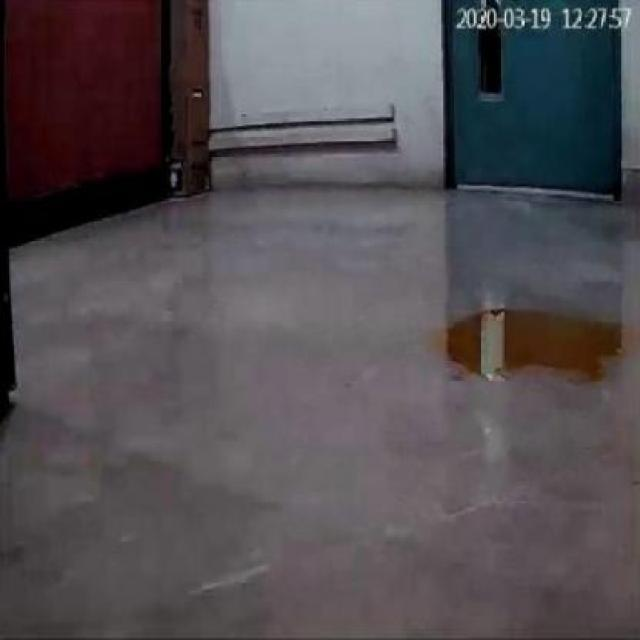spillage: (448, 310, 619, 381)
